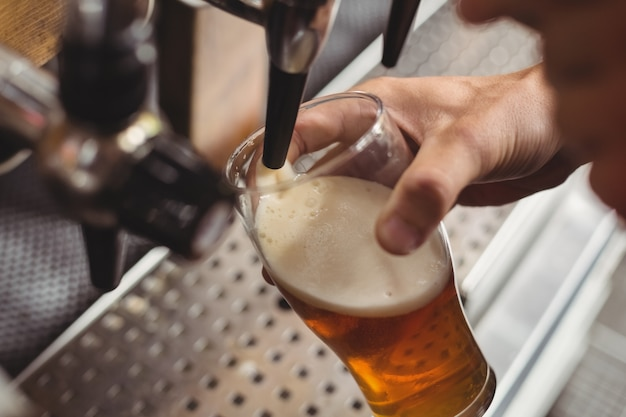alcohol: (223, 92, 499, 417)
